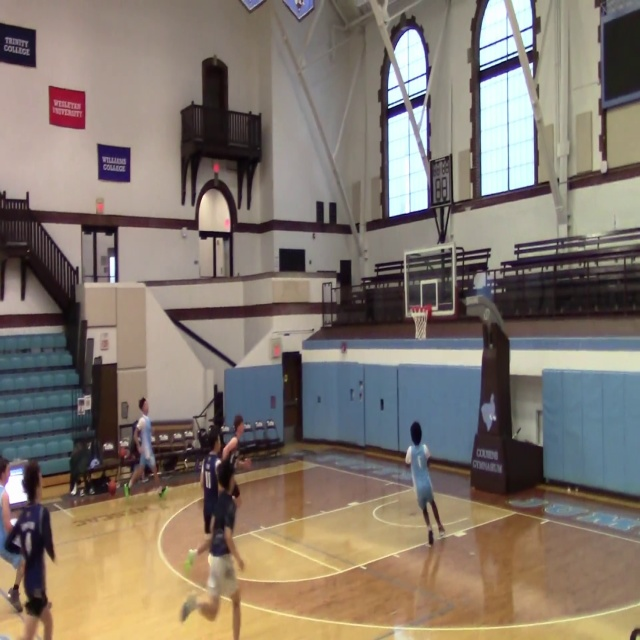Basketball: (107, 480, 117, 494), (159, 485, 168, 498)
